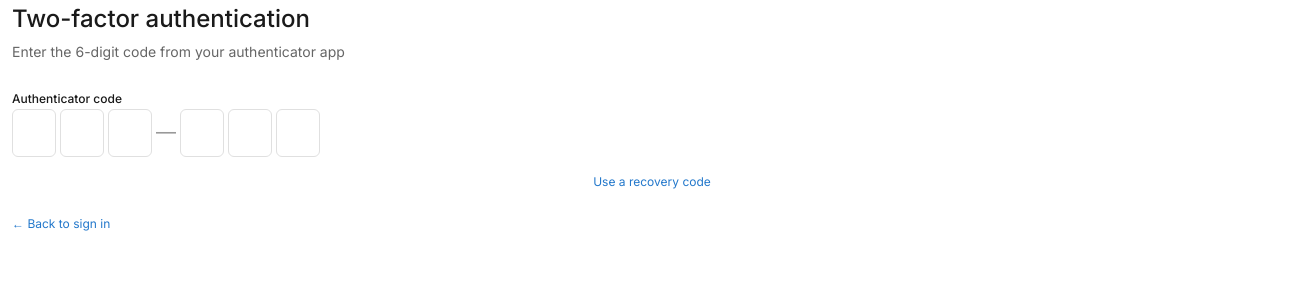
Test: MfaChallengeForm › switches to recovery mode when "Use a recovery code" is clicked
Click the button "Use a recovery code" at [652, 182], box top-left (12, 173), bottom-right (1292, 191)
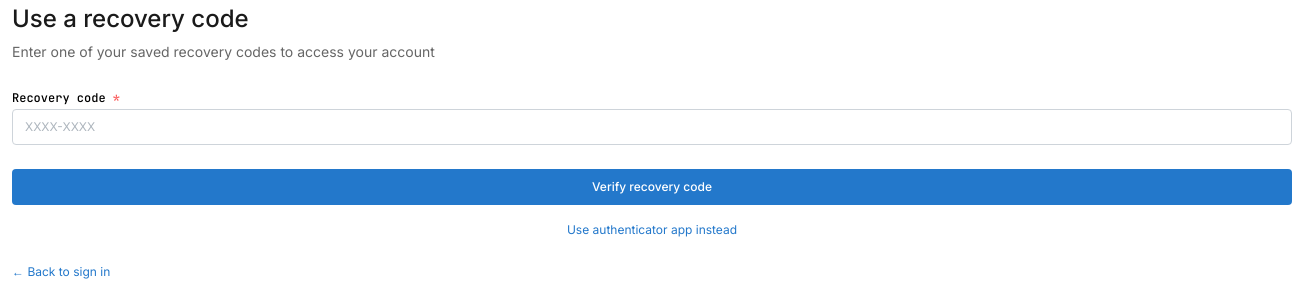
Now the heading reads "Use a recovery code", box top-left (12, 4), bottom-right (249, 33)
